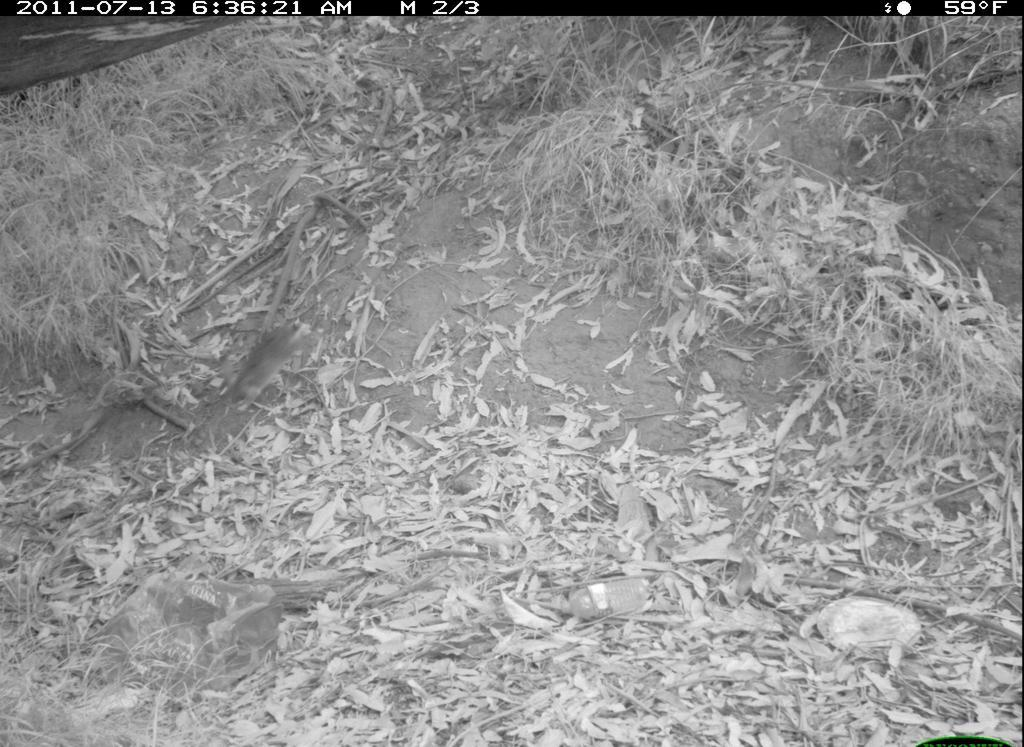rabbit: (216, 311, 317, 414)
